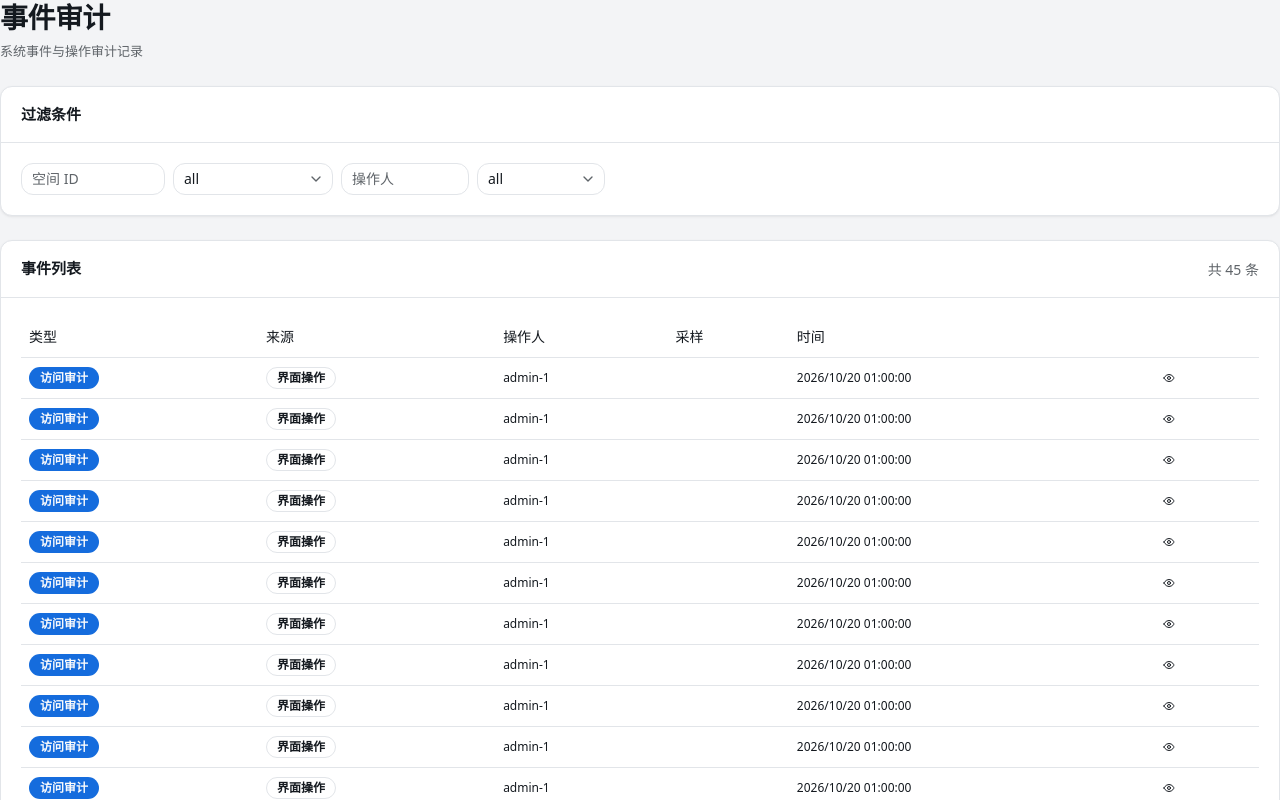
Test: 事件列表分页（C25） › 事件类型/来源翻中文；原始数据默认折叠，点「查看详情」才出现
Check: the text "audit.access" is not shown
Click the 1st button named "查看事件详情": [1169, 378] box left=1157, top=366, right=1181, bottom=390
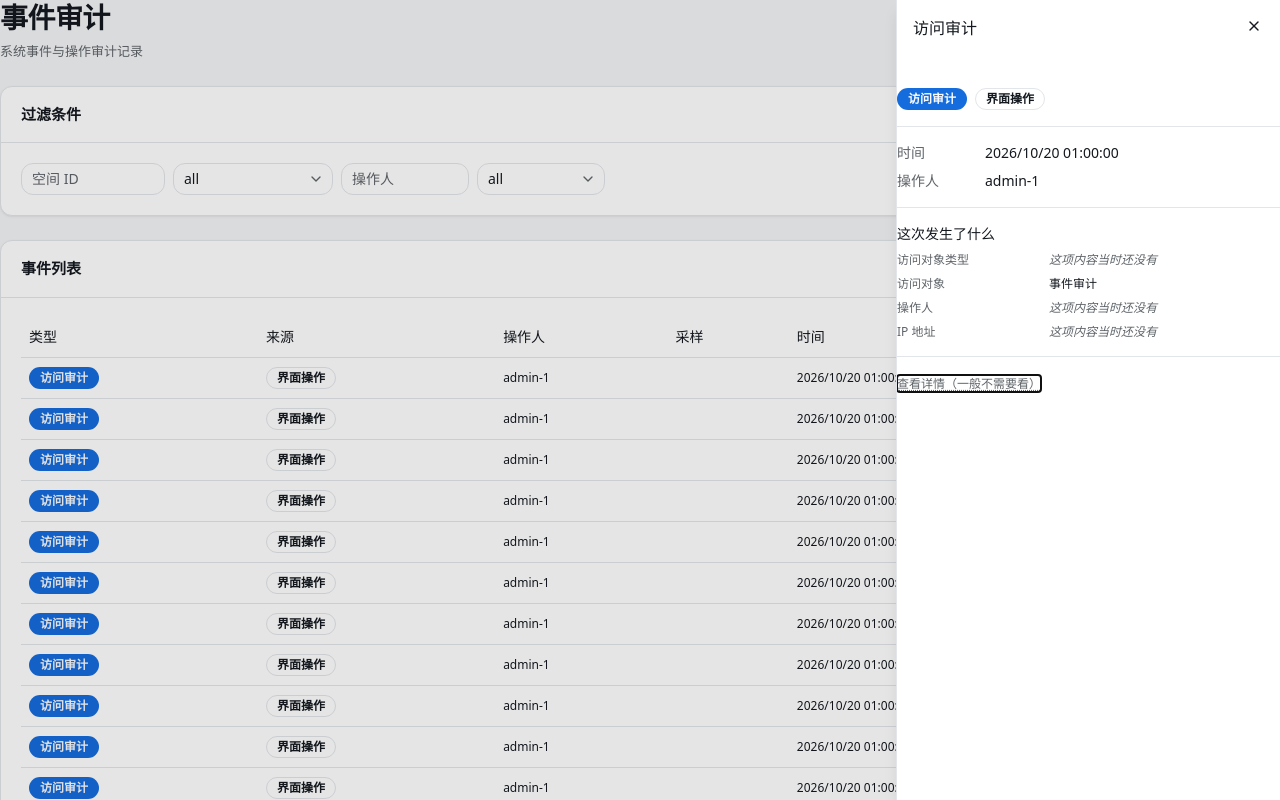
Check: the text "查看详情（一般不需要看）" is shown
Check: the text "访问对象" is shown, box left=897, top=251, right=969, bottom=268
Click the button "查看详情（一般不需要看）": [969, 384] box left=897, top=376, right=1041, bottom=392
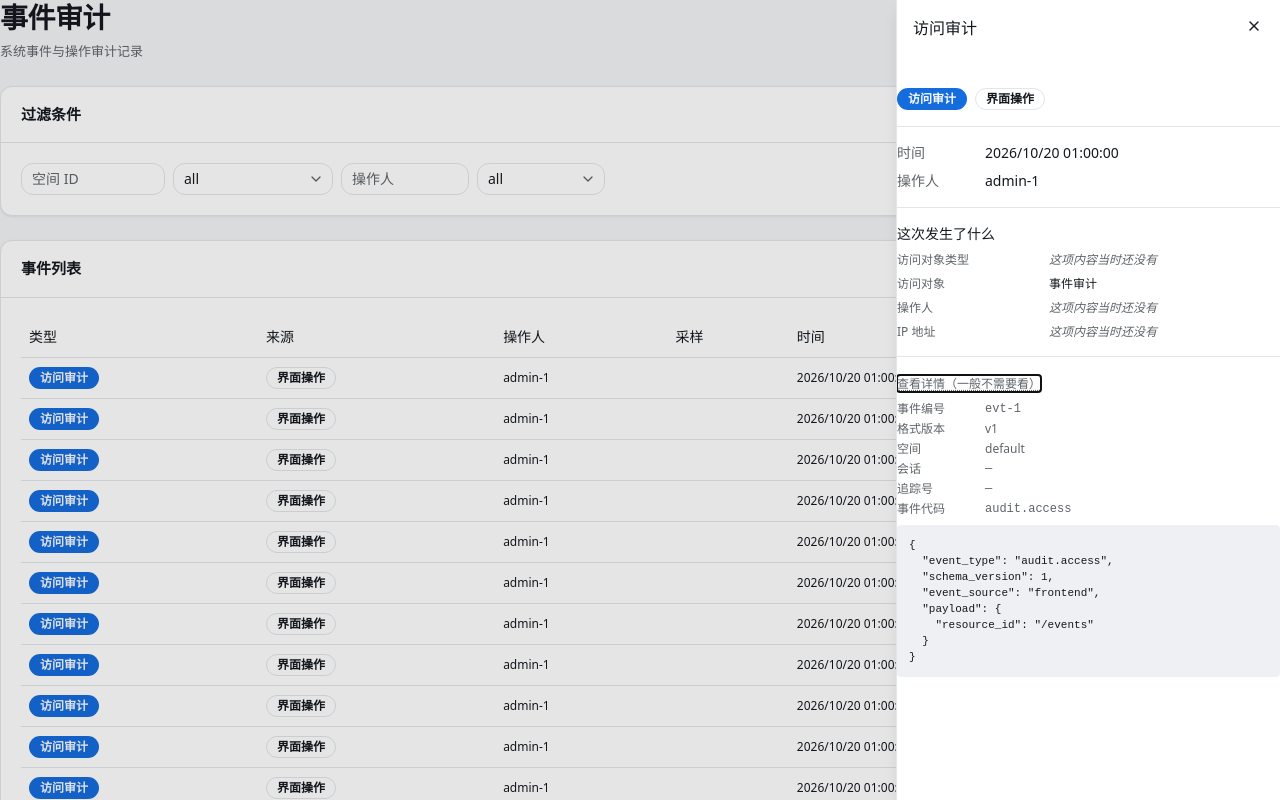
Check: the text "\"resource_id\"" is shown, box left=909, top=539, right=1114, bottom=663
